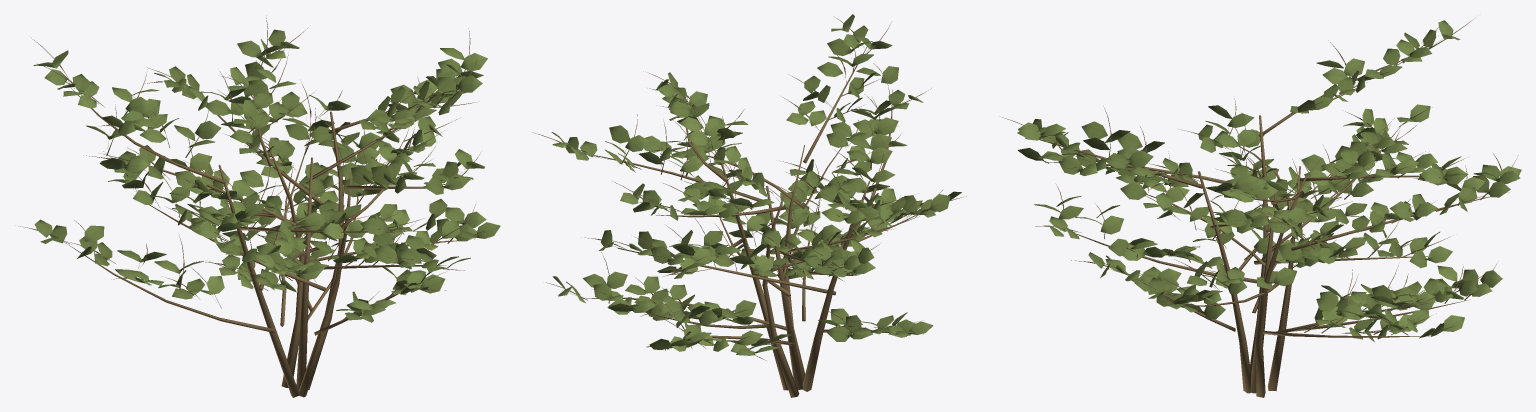
The model's file is Lentisque_0_LOD1.fbx.
3 renders of one model, left to right at view 1: azimuth 30°, elevation 25°; view 2: azimuth 150°, elevation 25°; view 3: azimuth 270°, elevation 25°, orthographic. The views are drawn at different scales.
Parts seen in each view (by area): view 1: Lentisque_0_LOD1; view 2: Lentisque_0_LOD1; view 3: Lentisque_0_LOD1.
Boxes of the visible parts, <box> form: Lentisque_0_LOD1: <box>20,18,500,397</box>; Lentisque_0_LOD1: <box>532,14,966,397</box>; Lentisque_0_LOD1: <box>1002,17,1521,397</box>.
Size of the model in its own units: 240 by 162 by 252.
